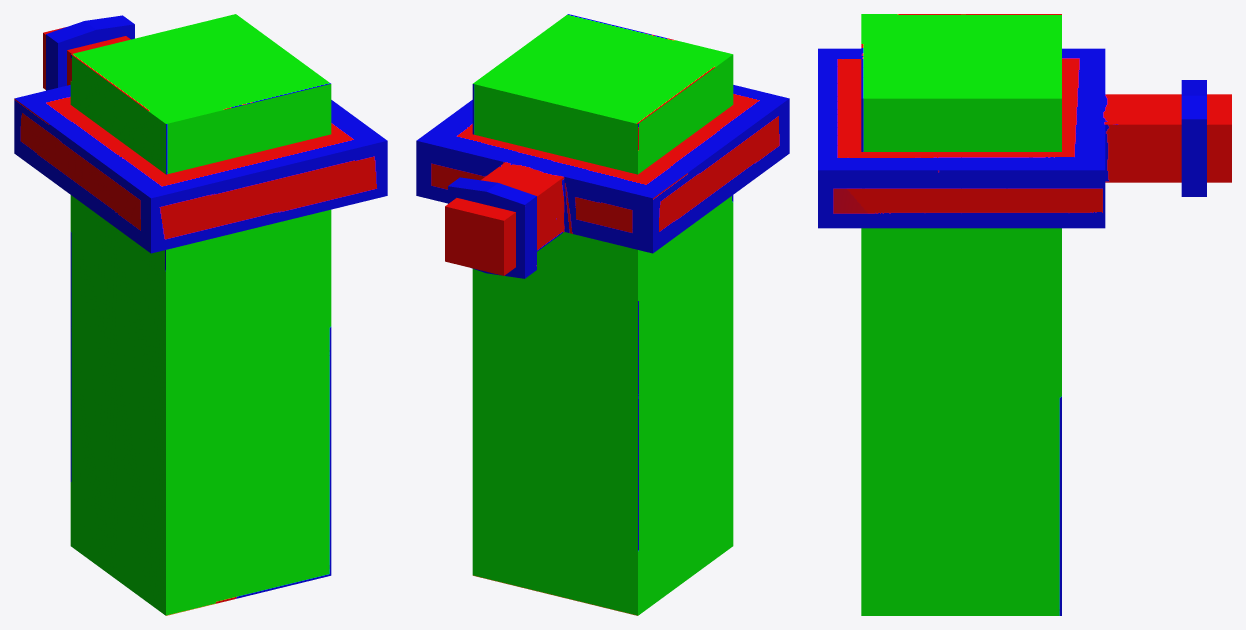
The model's file is WallTurret.fbx.
3 renders of one model, left to right at view 1: azimuth 30°, elevation 25°; view 2: azimuth 150°, elevation 25°; view 3: azimuth 270°, elevation 25°, orthographic. The views are drawn at different scales.
Visible parts, largest first — view 1: Cube; view 2: Cube; view 3: Cube.
Boxes of the visible parts, x1=… form: Cube: x1=14, y1=14, x2=387, y2=615; Cube: x1=416, y1=14, x2=789, y2=615; Cube: x1=818, y1=14, x2=1231, y2=615.
Size of the model in its own units: 143 by 285 by 206.
